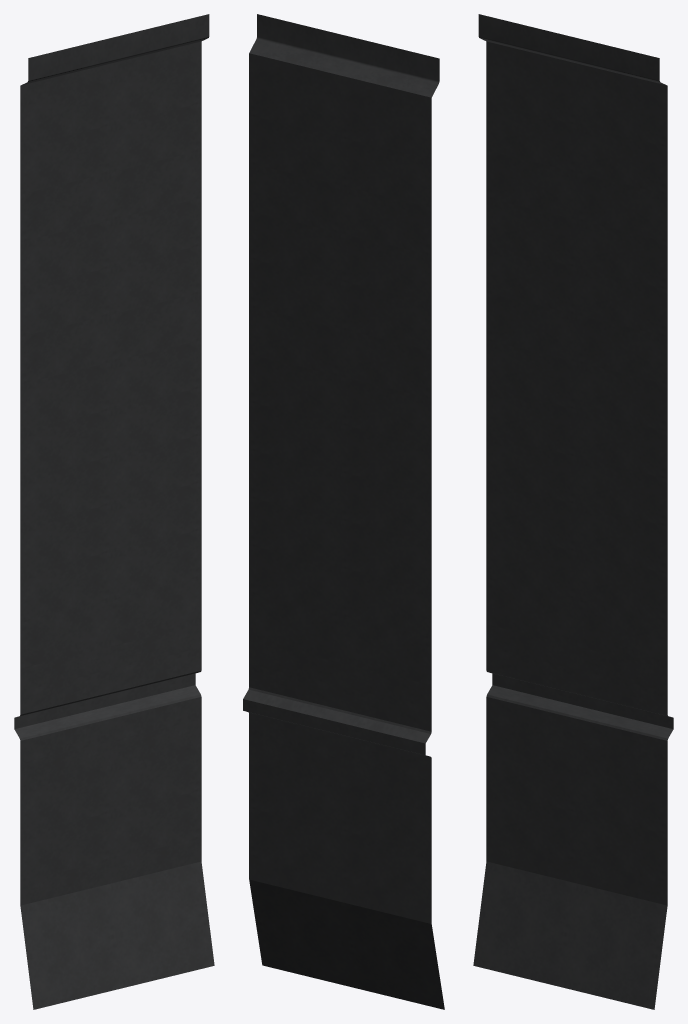
Rendered from M_Wall_Straight_4x20_v2.fbx.
3 renders of one model, left to right at view 1: azimuth 30°, elevation 25°; view 2: azimuth 150°, elevation 25°; view 3: azimuth 330°, elevation 25°, orthographic.
Parts seen in each view (by area): view 1: Wall_Straight_4x20_v2; view 2: Wall_Straight_4x20_v2; view 3: Wall_Straight_4x20_v2.
Part boxes in pixels (bbox=[...]): Wall_Straight_4x20_v2: bbox=[14, 14, 214, 1009]; Wall_Straight_4x20_v2: bbox=[243, 14, 444, 1009]; Wall_Straight_4x20_v2: bbox=[473, 14, 673, 1009].
Size of the model in its own units: 400 by 2000 by 73.02.
